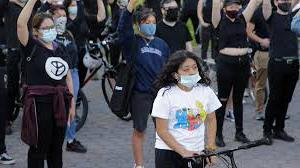mask_weared_incorrect: (178, 64, 201, 85), (164, 5, 179, 22)
with_mask: (39, 23, 58, 40), (141, 20, 157, 35), (226, 6, 240, 20), (54, 13, 68, 25), (66, 3, 79, 14)
